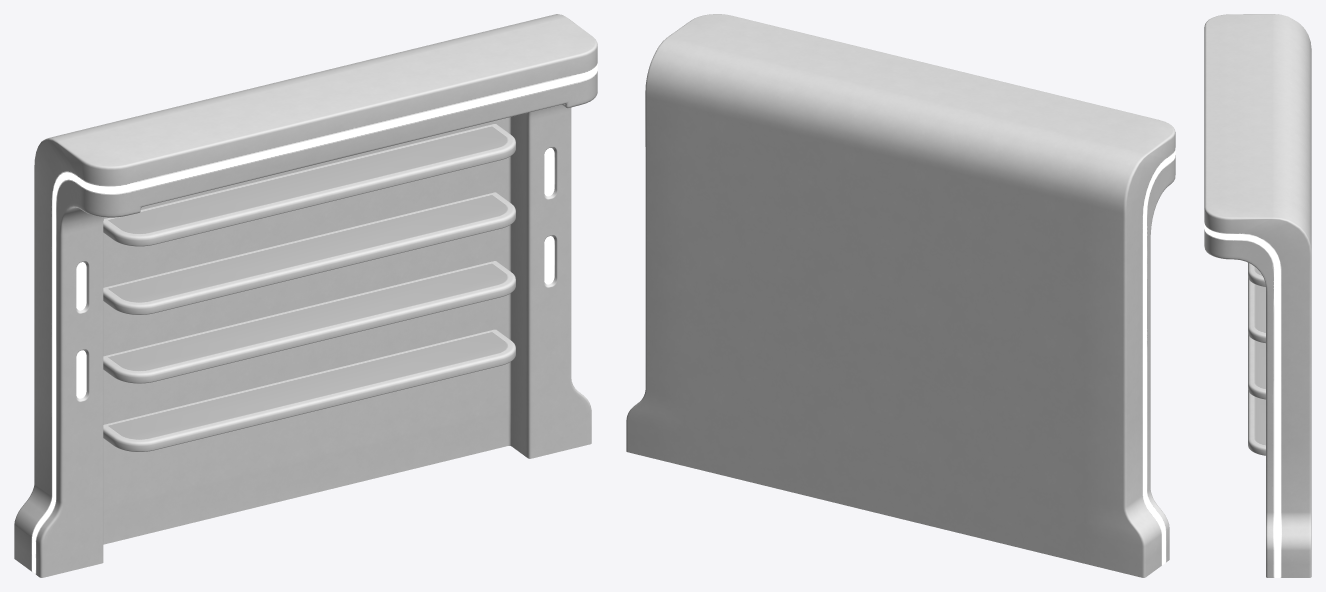
The model's file is BarShelves04.FBX.
The picture shows the model from 3 angles, left to right: view 1: azimuth 30°, elevation 25°; view 2: azimuth 150°, elevation 25°; view 3: azimuth 270°, elevation 25°; orthographic projection. The views are drawn at different scales.
Parts seen in each view (by area): view 1: BarShelves04; view 2: BarShelves04; view 3: BarShelves04.
Boxes of the visible parts, x1,y1,x2,y2 form: BarShelves04: (14,14,597,577); BarShelves04: (626,14,1175,577); BarShelves04: (1204,14,1311,577).
Size of what is drawn, in the model's own units: 3.37 by 2.5 by 0.6896.
